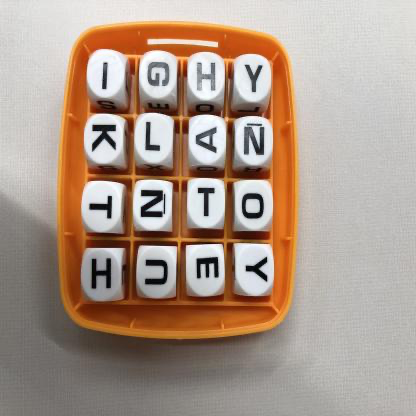a: (190, 117, 227, 163)
e: (187, 246, 225, 296)
g: (141, 54, 177, 99)
h: (83, 250, 121, 298), (189, 56, 226, 102)
i: (89, 55, 123, 98)
k: (86, 116, 125, 163)
l: (137, 117, 173, 164)
n: (235, 119, 273, 165), (134, 182, 172, 228)
o: (235, 182, 273, 229)
t: (188, 181, 225, 229), (84, 183, 121, 228)
u: (138, 247, 176, 301)
y: (238, 245, 275, 294), (235, 58, 271, 104)
